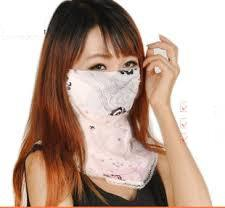OK: (74, 52, 145, 123)
